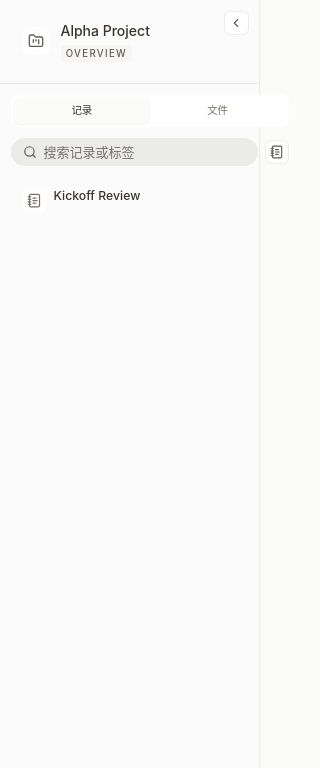
Test: ProjectSidebar › shows add actions beside search and hides tab counts
Check: the tab "记录" is shown, box [14,98,150,124]
Check: the button named "新增记录" is shown, box [264,140,289,164]
Click the tab "文件": [218, 111] box [150,98,286,124]
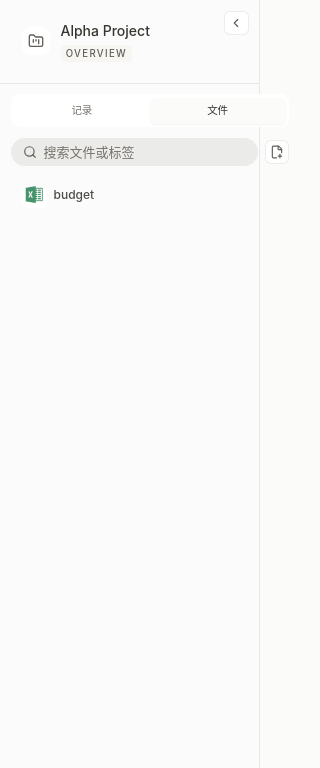
Check: the button named "导入文件" is shown, box [264,140,289,164]
